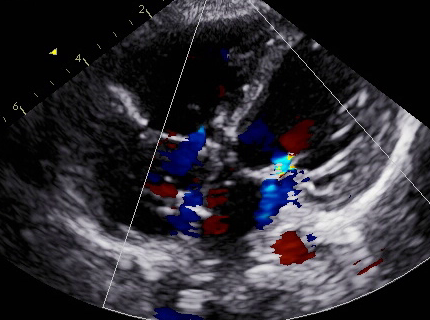MR: (237, 151, 311, 200)
